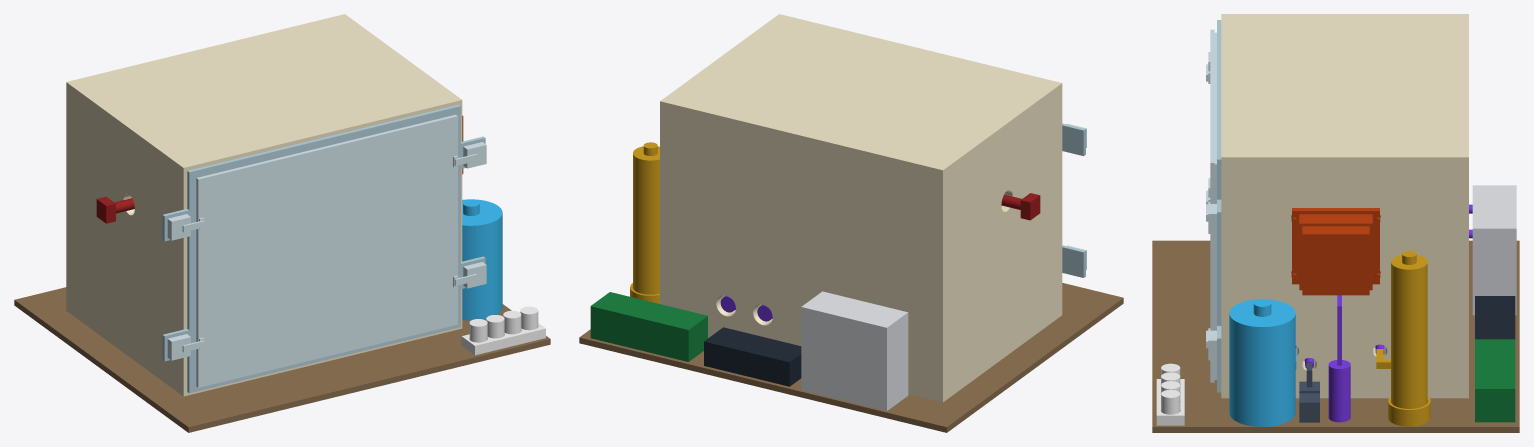
3 views of the same model, side by side, from view 1: azimuth 30°, elevation 25°; view 2: azimuth 150°, elevation 25°; view 3: azimuth 270°, elevation 25° (orthographic). The views are drawn at different scales.
Parts seen in each view (by area): view 1: Insulation jacket (XPS, all faces but the door), Front door with gasket and latches, Base plate, 600 x 500 mm, Chamber shell, 6 mm acrylic, 36 L, Humidifier bubbler, sleeved, heated line, Salt fixed-point jars, Aerosol injection port and valve; view 2: Insulation jacket (XPS, all faces but the door), HEPA scrubber loop, Base plate, 600 x 500 mm, Controller and power board, Dryer column (silica gel), 12 V power supply (external), Chamber shell, 6 mm acrylic, 36 L, Aerosol injection port and valve; view 3: Insulation jacket (XPS, all faces but the door), Base plate, 600 x 500 mm, Humidifier bubbler, sleeved, heated line, Peltier heat pump, 60 W, Dryer column (silica gel), HEPA scrubber loop, Controller and power board, Front door with gasket and latches, Bulkhead fittings, glands and drain, Chamber shell, 6 mm acrylic, 36 L, 12 V power supply (external), Salt fixed-point jars (+1 smaller).
Part boxes in pixels (x1,y1,x2,y2): Insulation jacket (XPS, all faces but the door): (66, 14, 462, 396); Front door with gasket and latches: (167, 114, 486, 387); Base plate, 600 x 500 mm: (14, 287, 550, 432); Chamber shell, 6 mm acrylic, 36 L: (162, 104, 485, 393); Humidifier bubbler, sleeved, heated line: (462, 199, 502, 320); Salt fixed-point jars: (461, 306, 545, 355); Aerosol injection port and valve: (96, 196, 134, 223); Insulation jacket (XPS, all faces but the door): (660, 14, 1062, 402); HEPA scrubber loop: (801, 291, 908, 410); Base plate, 600 x 500 mm: (579, 283, 1123, 432); Controller and power board: (590, 292, 707, 361); Dryer column (silica gel): (630, 142, 659, 303); 12 V power supply (external): (704, 327, 801, 386); Chamber shell, 6 mm acrylic, 36 L: (735, 123, 1085, 318); Aerosol injection port and valve: (1001, 193, 1040, 220); Insulation jacket (XPS, all faces but the door): (1221, 14, 1468, 398); Base plate, 600 x 500 mm: (1152, 240, 1519, 432); Humidifier bubbler, sleeved, heated line: (1229, 299, 1296, 426); Peltier heat pump, 60 W: (1291, 208, 1380, 295); Dryer column (silica gel): (1376, 250, 1430, 426); HEPA scrubber loop: (1472, 185, 1516, 315); Controller and power board: (1475, 339, 1515, 422); Front door with gasket and latches: (1206, 29, 1216, 382); Bulkhead fittings, glands and drain: (1295, 204, 1472, 422); Chamber shell, 6 mm acrylic, 36 L: (1217, 20, 1385, 392); 12 V power supply (external): (1475, 296, 1515, 339); Salt fixed-point jars: (1156, 363, 1184, 425).
Size of the model in its own units: 0.6 by 0.371 by 0.5.
